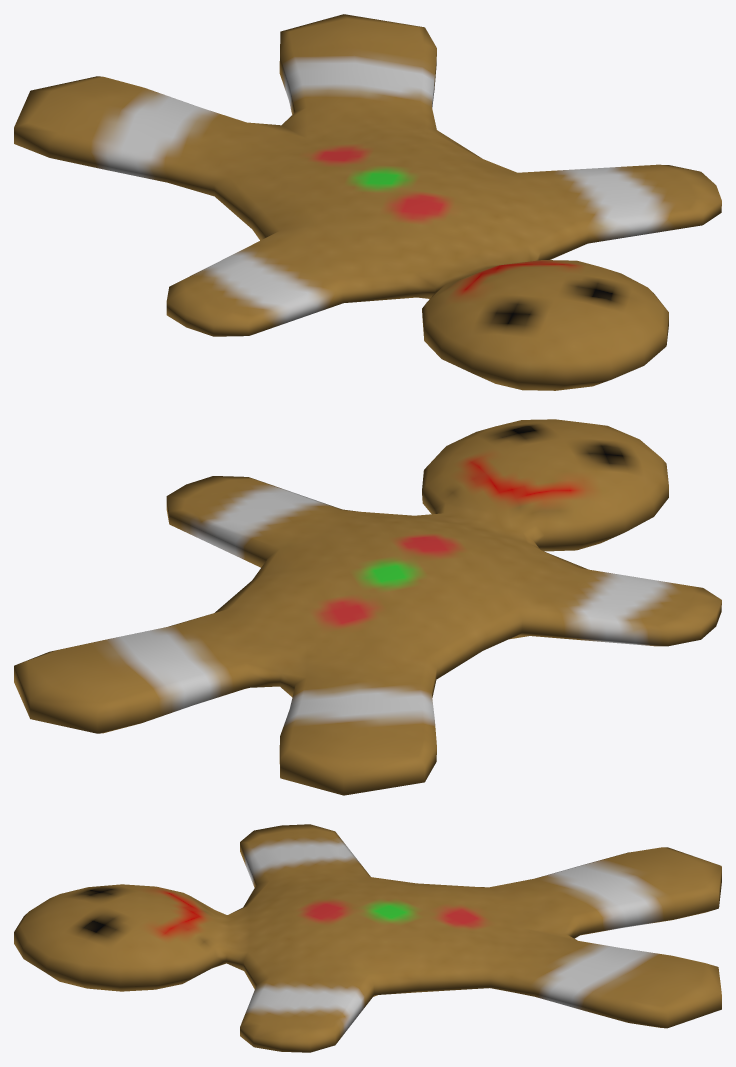
File: puppy_toys.fbx
3 renders of one model, top to bottom at view 1: azimuth 30°, elevation 25°; view 2: azimuth 150°, elevation 25°; view 3: azimuth 270°, elevation 25°, orthographic. The views are drawn at different scales.
Parts seen in each view (by area): view 1: puppy_toys; view 2: puppy_toys; view 3: puppy_toys.
Part boxes in pixels (x1,y1,x2,y2): puppy_toys: (14,14,721,390); puppy_toys: (14,419,721,795); puppy_toys: (14,824,721,1052).
Size of the model in its own units: 39.38 by 5.5 by 54.15.
Materials: 1 (1 with a texture image).
